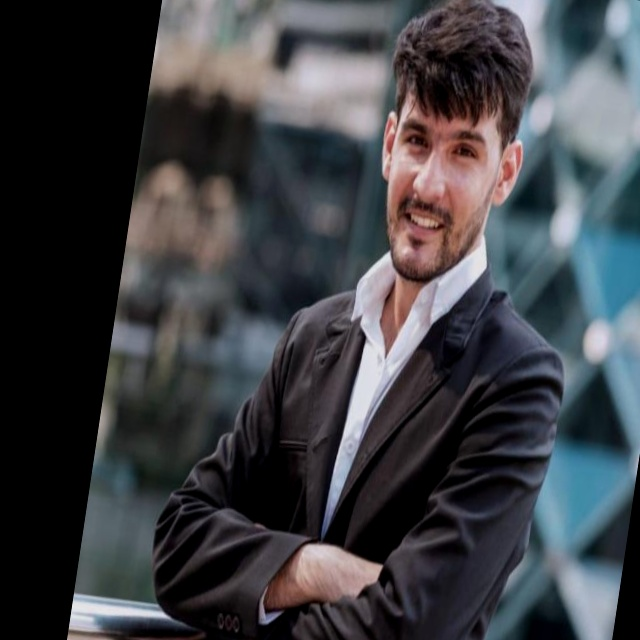Sin_Casco_Mascarrilla: (365, 0, 545, 290)
Sin_Chaleco: (235, 249, 573, 640)
